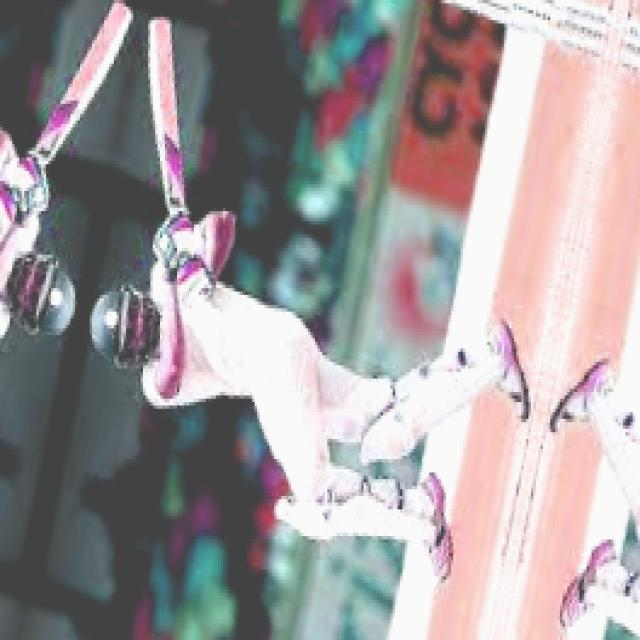toe: (141, 12, 178, 37)
